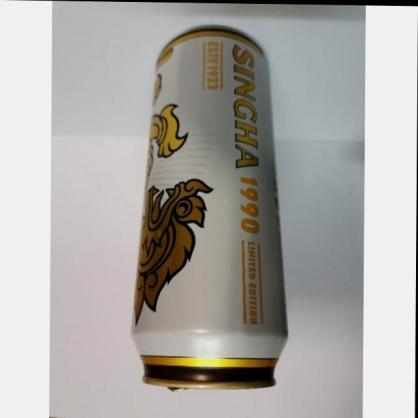can: (131, 24, 290, 390)
